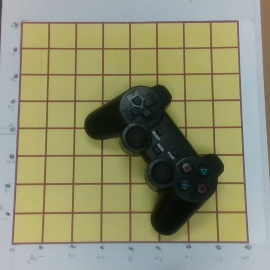remote: (83, 84, 224, 234)
